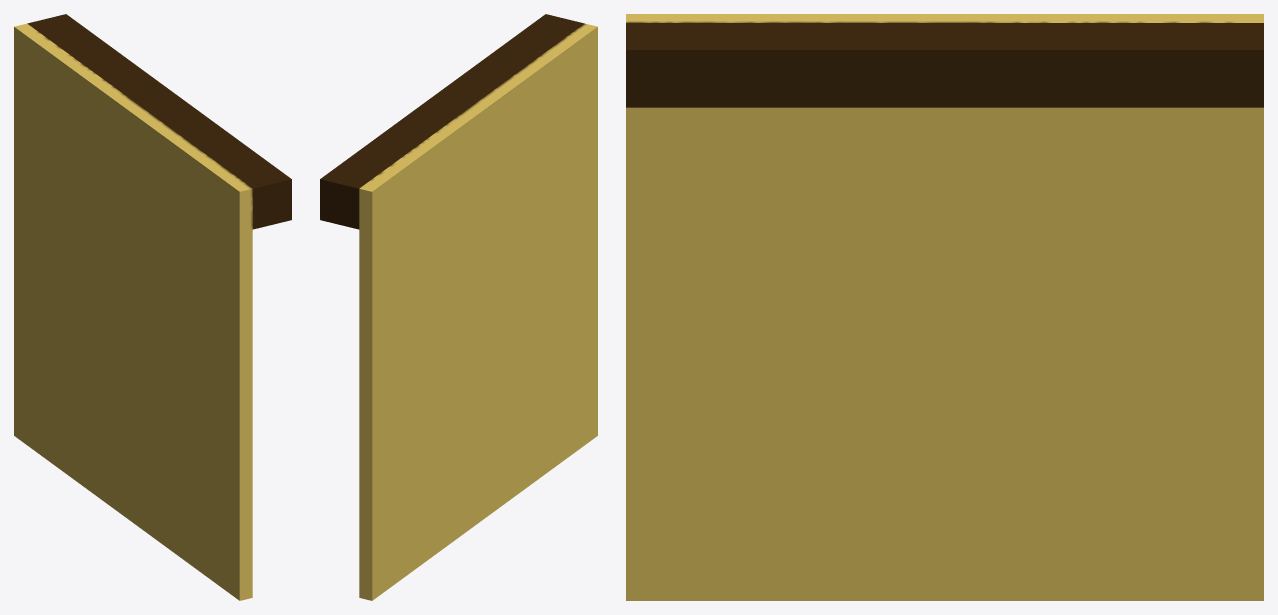
The model's file is WallPieceDoor.fbx.
3 views of the same model, side by side, from view 1: azimuth 30°, elevation 25°; view 2: azimuth 150°, elevation 25°; view 3: azimuth 270°, elevation 25° (orthographic). The views are drawn at different scales.
Parts seen in each view (by area): view 1: WallPiece; view 2: WallPiece; view 3: WallPiece.
Boxes of the visible parts, x1,y1,x2,y2 form: WallPiece: (14,14,291,600); WallPiece: (320,14,597,600); WallPiece: (626,14,1263,600).
Size of the model in its own units: 80 by 600 by 600.
